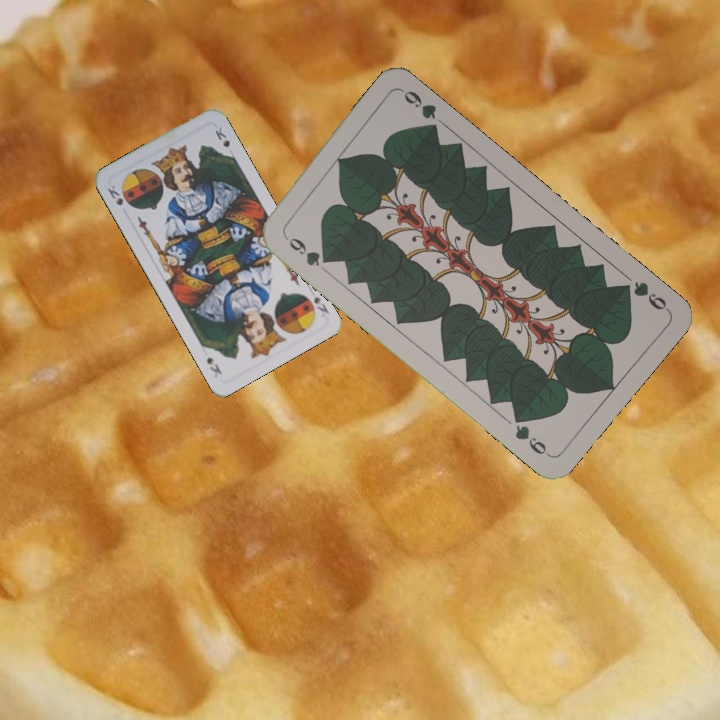G9: (279, 230, 333, 270), (615, 277, 671, 313)
SK: (300, 290, 331, 319), (103, 181, 126, 208)
